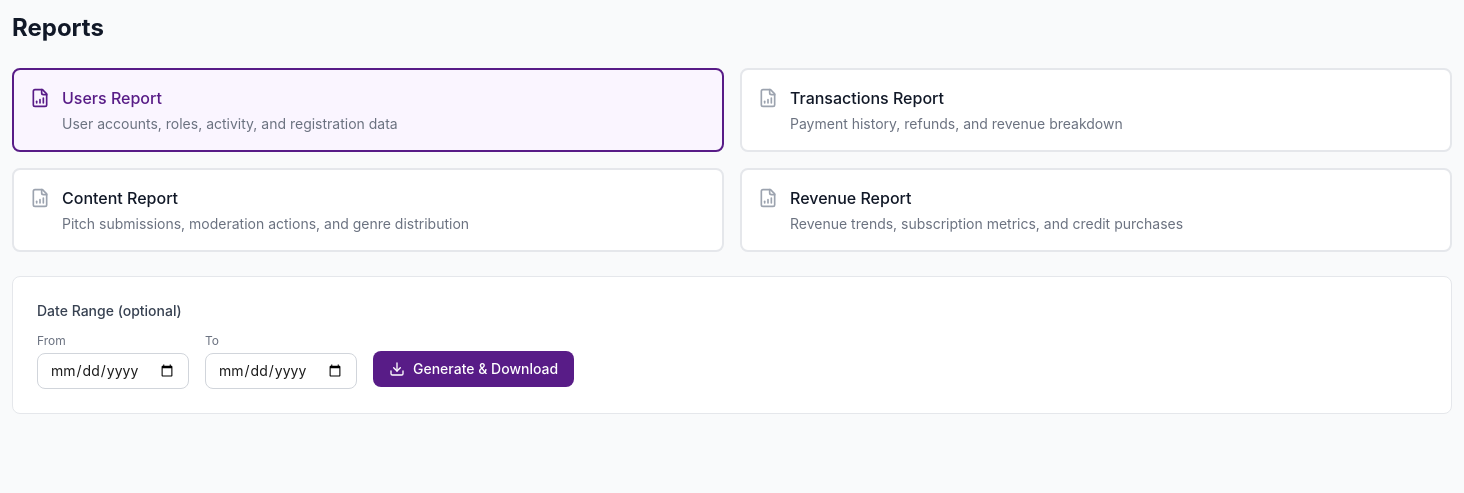
Test: AdminReports › Error Handling › shows error message when report generation fails
Click the button "Generate & Download" at (474, 369), box 373,351 -> 574,387
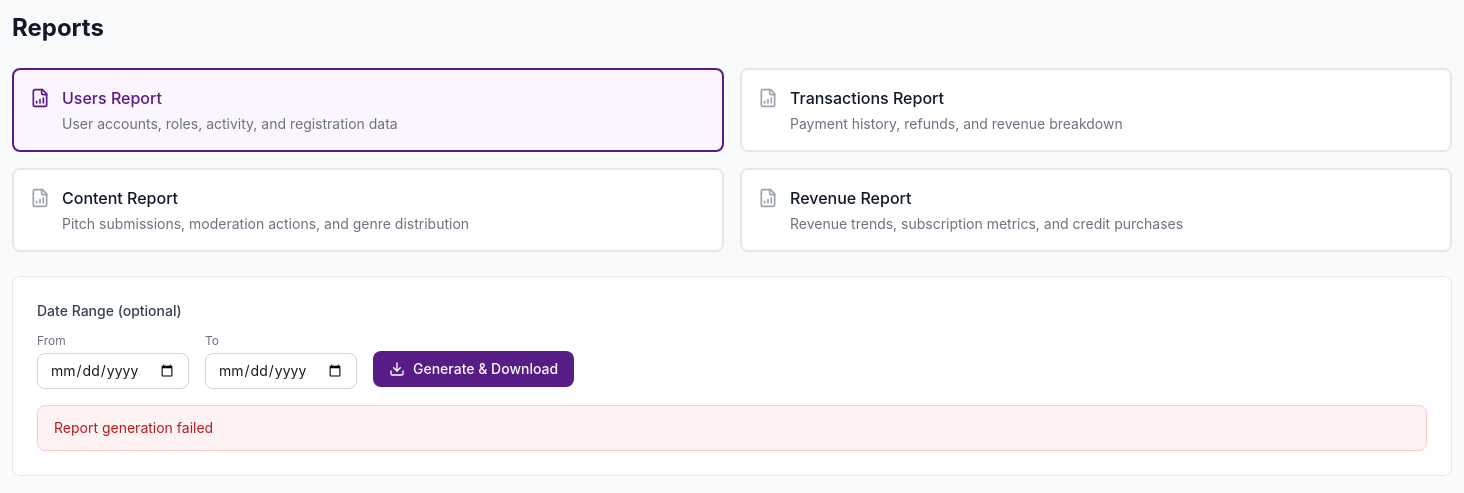
Check: the text "Report generation failed" is shown, box 37,405 -> 1427,451
